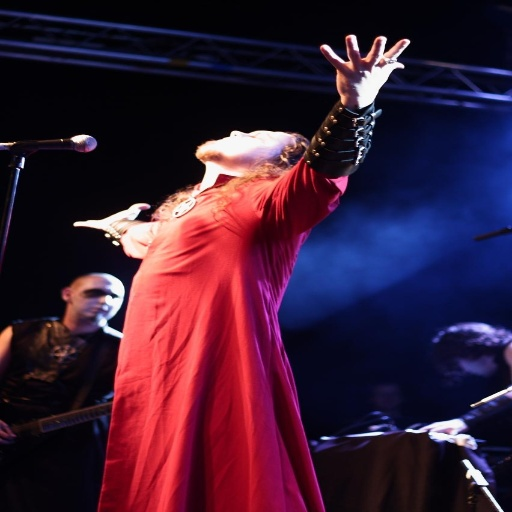hand: (328, 28, 411, 107), (72, 201, 151, 230), (0, 420, 15, 442)
